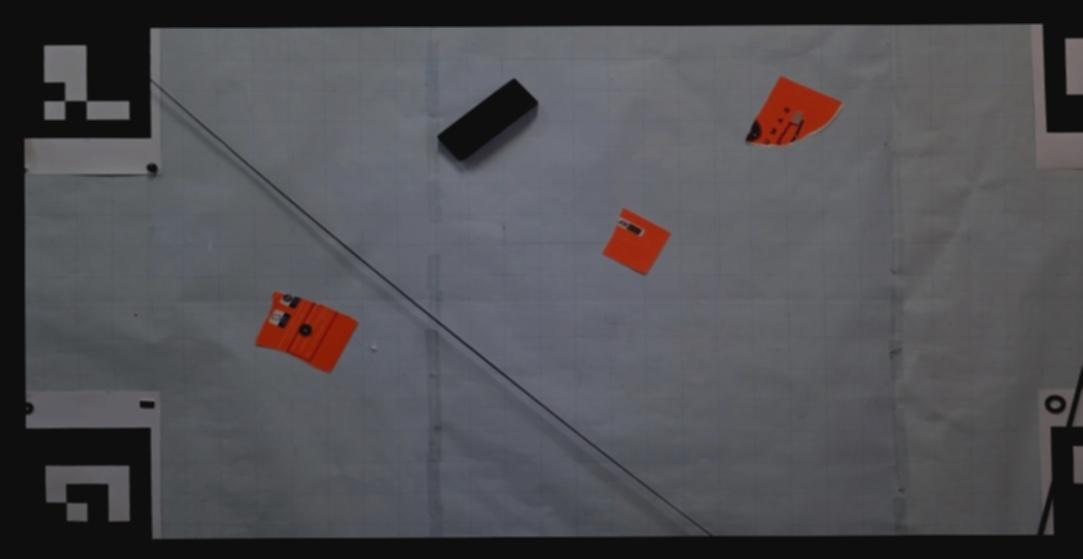obstacle: (436, 77, 540, 163), (255, 290, 358, 375), (744, 74, 844, 148), (601, 209, 672, 277)
